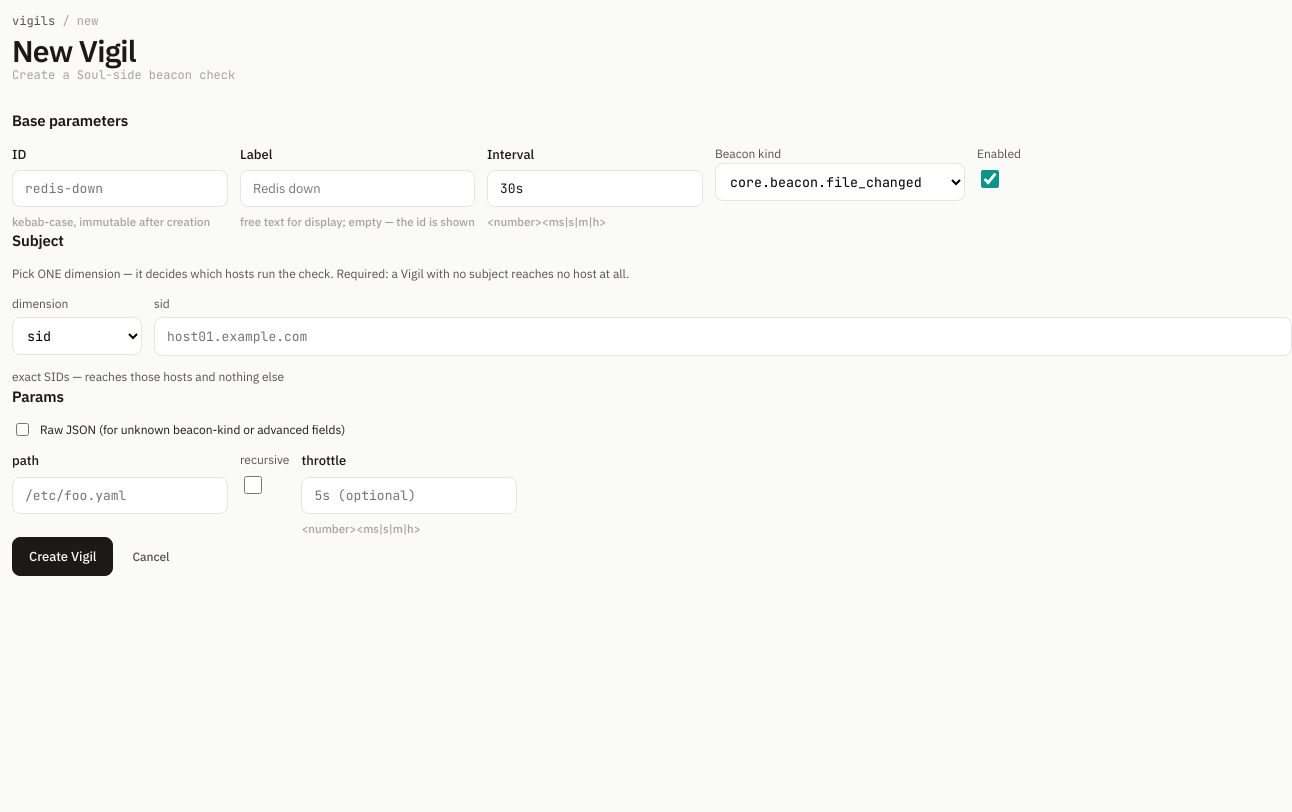
Test: VigilNewForm › validation: empty id blocks submit (no 422 sent)
submit without filling in the id
Step 1. Click the button "Create Vigil" → (63, 556), box [12, 537, 113, 576]
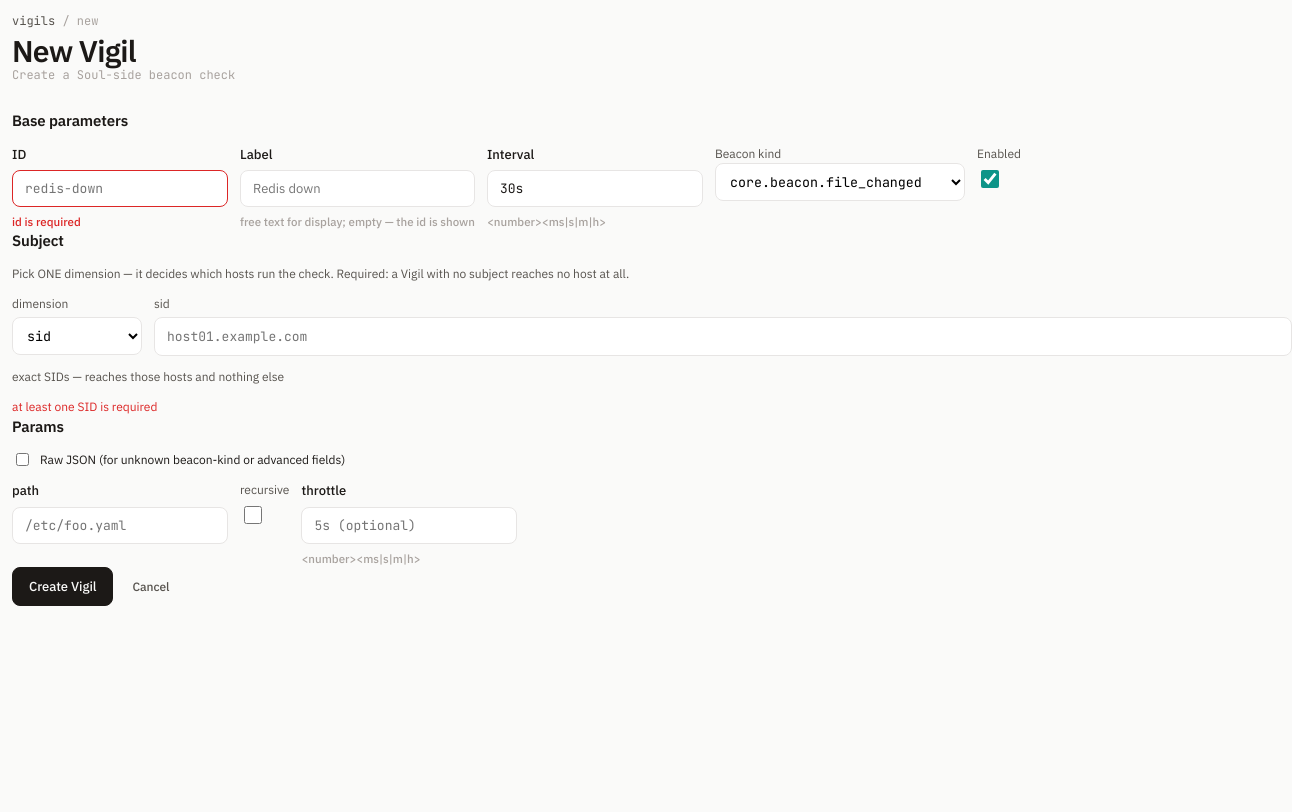
expect the text "id is required" is shown: met, box [12, 214, 81, 229]
